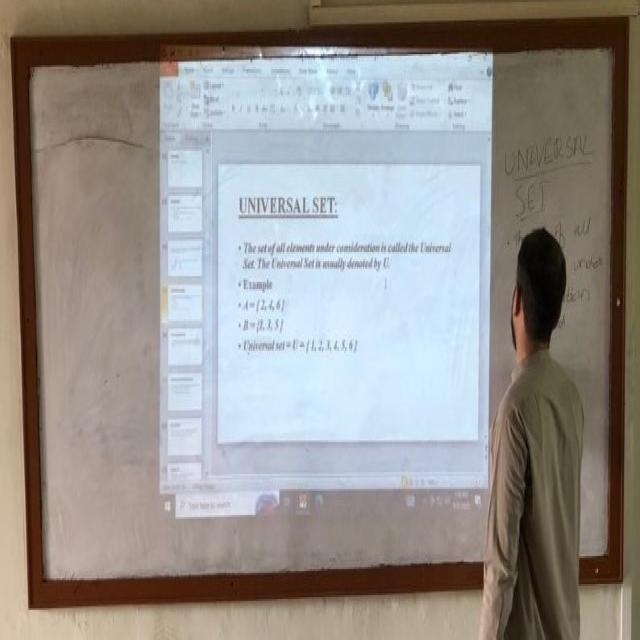Instructor: (484, 220, 585, 640)
Slide: (160, 52, 491, 534)
White-board: (21, 33, 624, 593)
